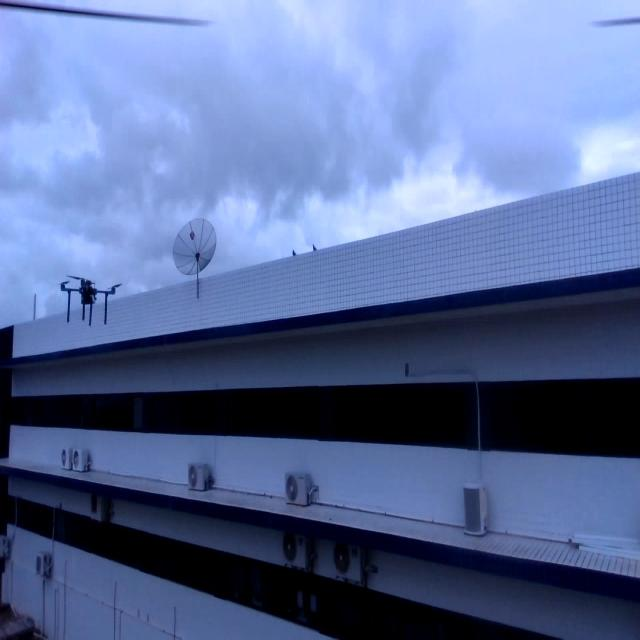-uav-: (52, 270, 126, 334)
